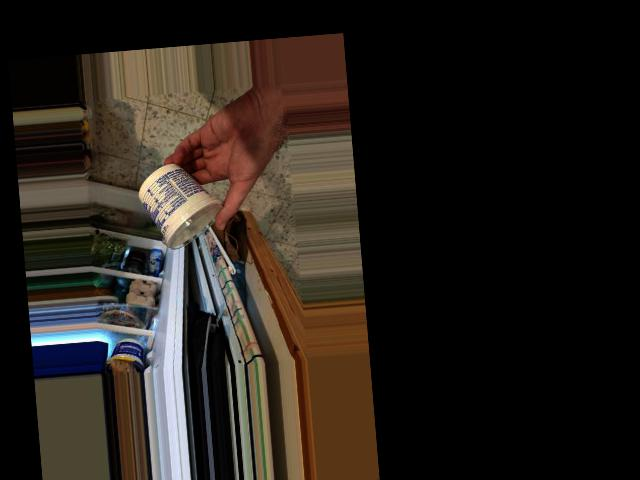cotage: (139, 171, 226, 256)
